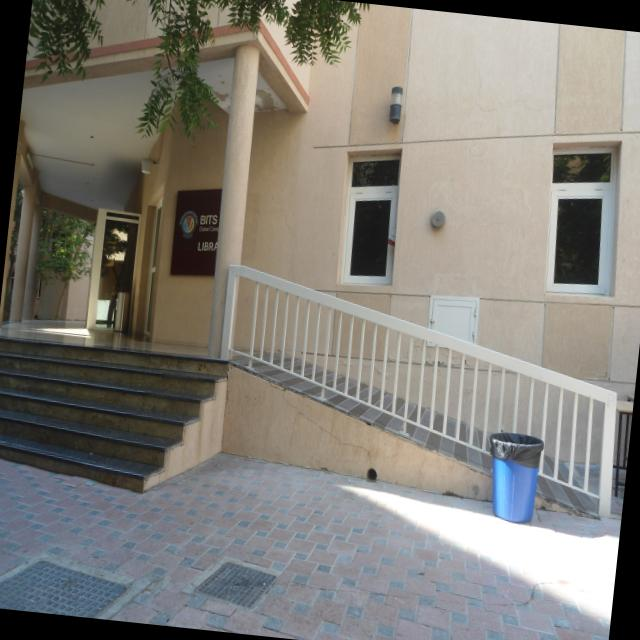board: (162, 179, 239, 284)
dustbin: (482, 418, 548, 528)
pillar: (198, 26, 268, 364), (8, 174, 46, 328)
railing: (202, 249, 634, 528)
ramp: (204, 318, 612, 517)
stairs: (0, 295, 237, 504)
tree-chair-bench-table-wall: (22, 0, 355, 144)
window: (538, 132, 629, 295), (332, 128, 417, 302)
